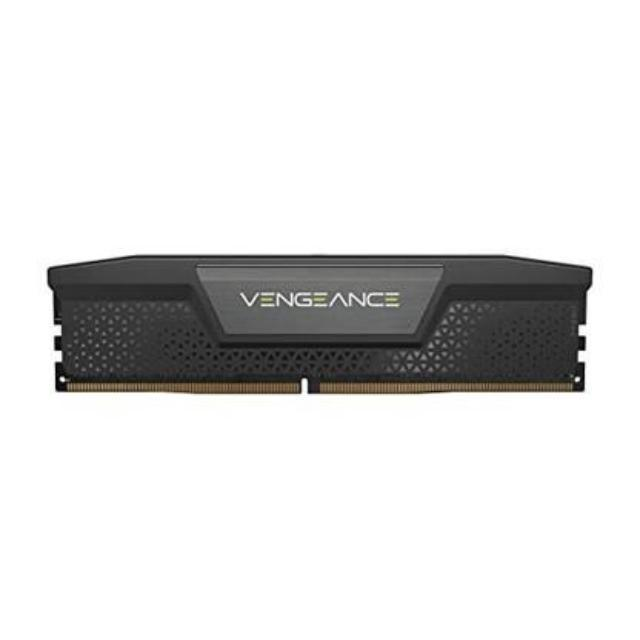RAM: (39, 238, 602, 416)
